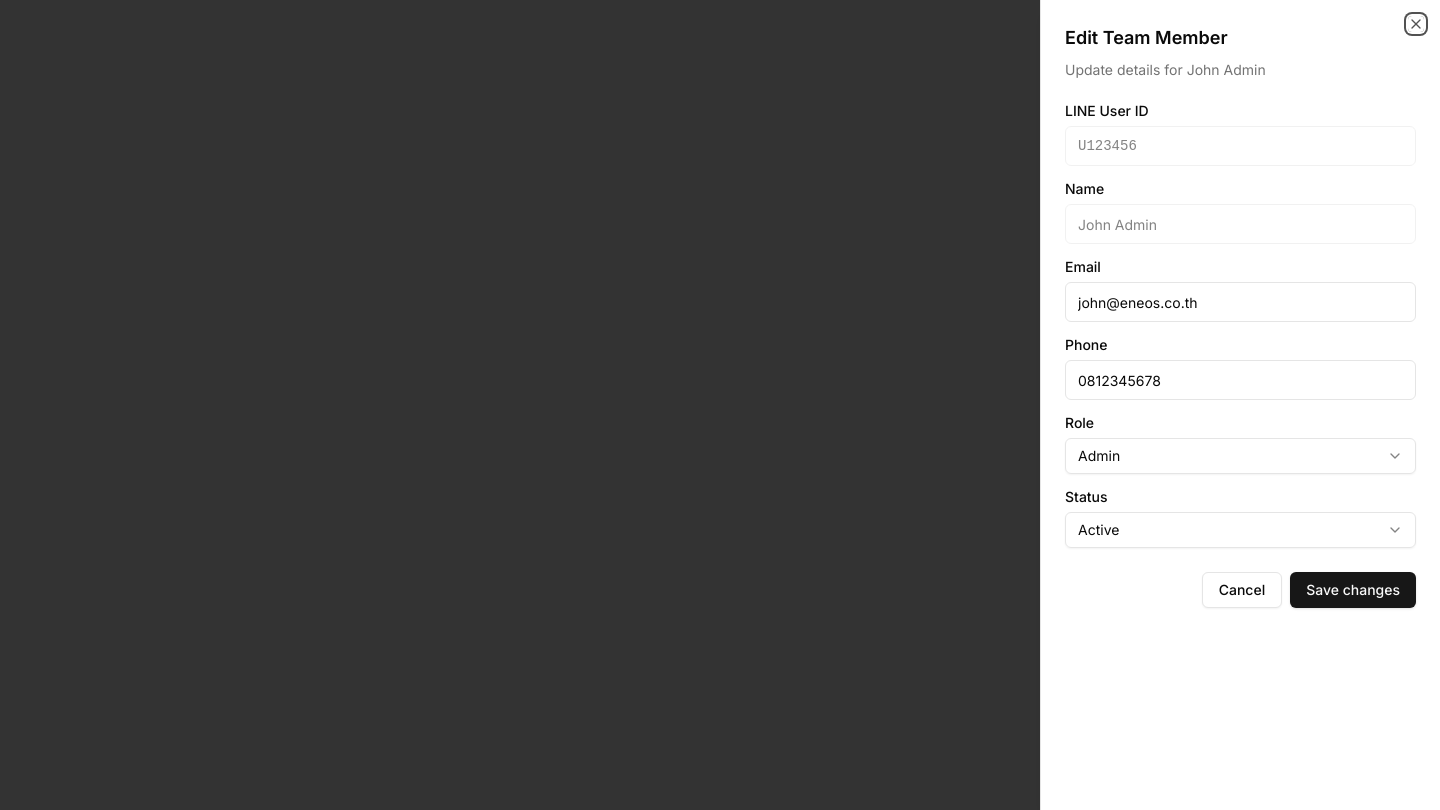
Test: TeamMemberEditModal Component › AC#8: Email validation (Story 13-1: any domain accepted) › should show error for invalid email format
The width and height of the screenshot is (1440, 810).
Step 1. Replace the text in the field with test id "input-email" with "not-an-email" → (1240, 302), box [1065,282,1416,322]
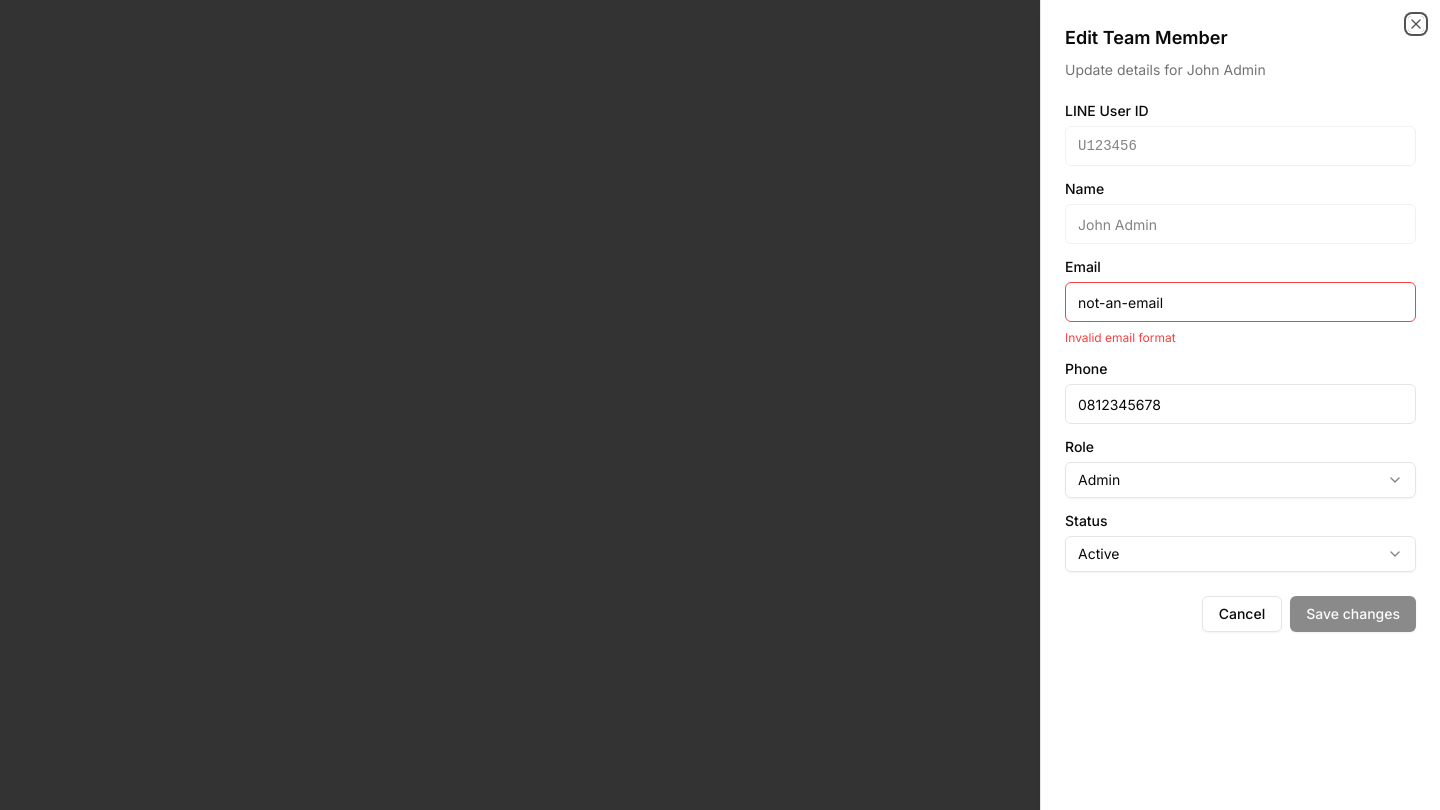
Expected: the text with test id "email-error" shows "Invalid email", [1065,330,1176,345]
